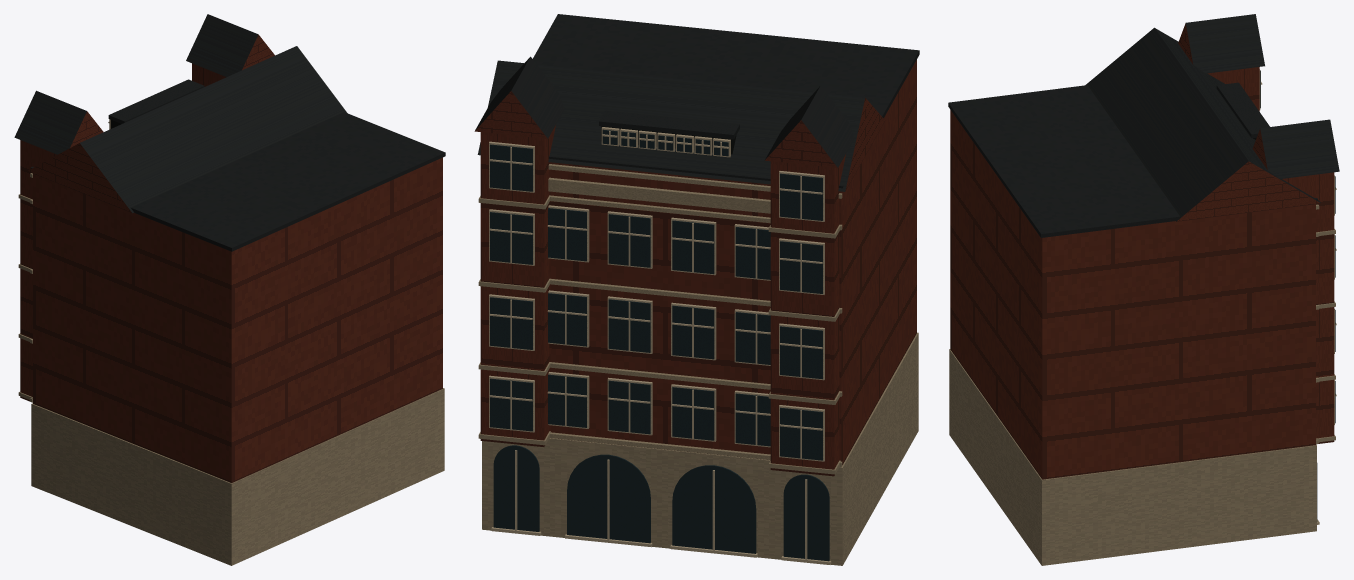
The picture shows the model from 3 angles, left to right: view 1: azimuth 30°, elevation 25°; view 2: azimuth 150°, elevation 25°; view 3: azimuth 270°, elevation 25°; orthographic projection. The views are drawn at different scales.
Visible parts, largest first — view 1: nederlanden-1845-0, nederlanden-1845-1, nederlanden-1845-2; view 2: nederlanden-1845-0, nederlanden-1845-5, nederlanden-1845-1, nederlanden-1845-2, nederlanden-1845-4; view 3: nederlanden-1845-0, nederlanden-1845-1, nederlanden-1845-2.
Part boxes in pixels (<box>): nederlanden-1845-0: <box>20,34,442,482</box>; nederlanden-1845-1: <box>14,14,445,251</box>; nederlanden-1845-2: <box>18,173,444,565</box>; nederlanden-1845-0: <box>474,60,916,476</box>; nederlanden-1845-5: <box>490,129,829,561</box>; nederlanden-1845-1: <box>475,14,919,191</box>; nederlanden-1845-2: <box>478,164,918,565</box>; nederlanden-1845-4: <box>489,127,831,564</box>; nederlanden-1845-0: <box>950,23,1334,479</box>; nederlanden-1845-1: <box>948,14,1339,237</box>; nederlanden-1845-2: <box>949,204,1335,565</box>.
Bounding box in the file's own units: 22.48 × 24.5 × 21.94.
6 materials, 6 textured.
